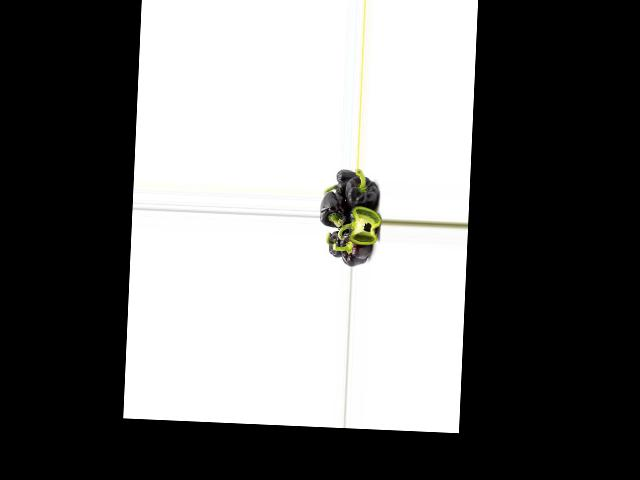bell_pepper: (339, 225, 371, 266)
